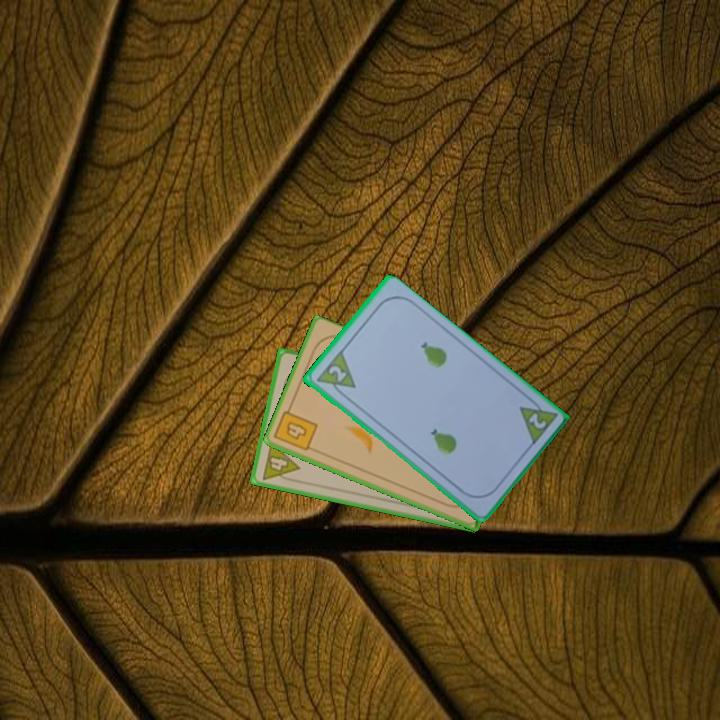2p: (312, 348, 358, 401), (524, 409, 549, 432)
4b: (271, 402, 321, 454)
4p: (258, 438, 302, 486)
